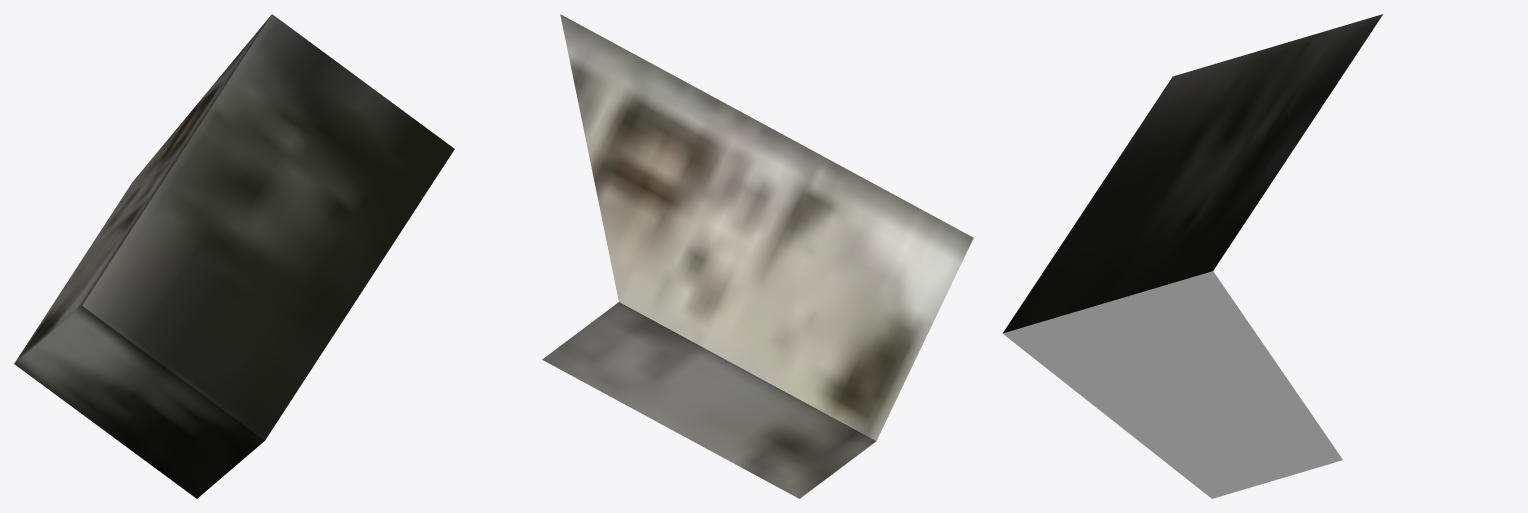
Rendered from 39529_bldg_Building.glb.
3 renders of one model, left to right at view 1: azimuth 30°, elevation 25°; view 2: azimuth 150°, elevation 25°; view 3: azimuth 270°, elevation 25°, orthographic. The views are drawn at different scales.
Size of the model in its own units: 7.5 by 7.55 by 6.04.
2 materials, 1 textured.
